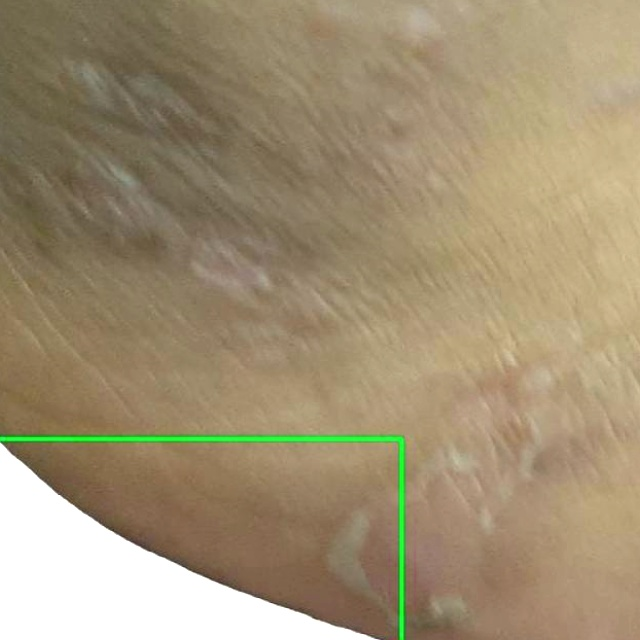Eczema: (0, 438, 401, 639)
